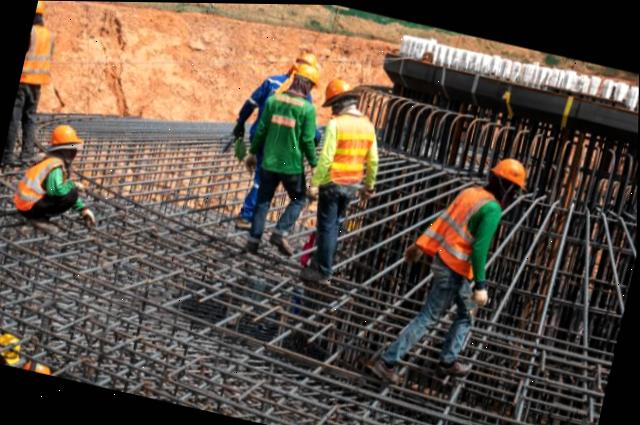helmet: (488, 152, 535, 188), (322, 73, 363, 109), (46, 118, 87, 150), (288, 59, 324, 88), (0, 330, 29, 365), (296, 48, 326, 71), (23, 357, 51, 374), (34, 0, 48, 18)
vest: (409, 174, 508, 280), (319, 108, 387, 194), (9, 148, 76, 217), (20, 21, 64, 88)
